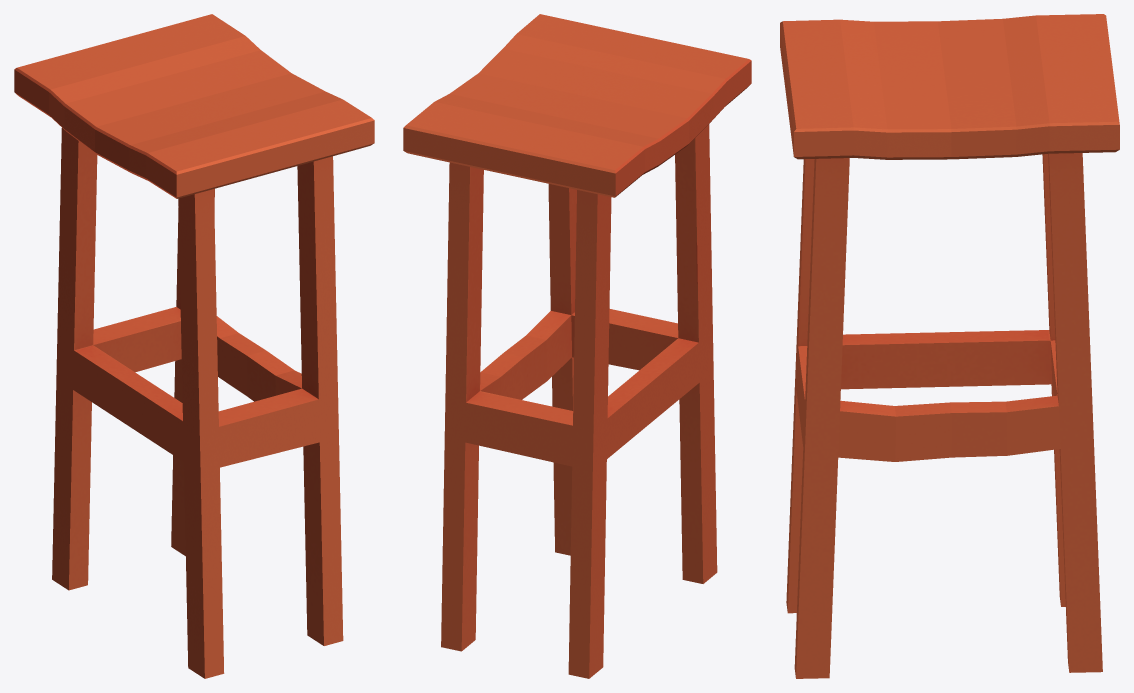
Rendered from Stool.fbx.
3 views of the same model, side by side, from view 1: azimuth 30°, elevation 25°; view 2: azimuth 150°, elevation 25°; view 3: azimuth 270°, elevation 25° (orthographic). The views are drawn at different scales.
Visible parts, largest first — view 1: Stool.004; view 2: Stool.004; view 3: Stool.004.
Boxes of the visible parts, <box> form: Stool.004: <box>14,14,374,678</box>; Stool.004: <box>403,14,751,678</box>; Stool.004: <box>780,14,1119,678</box>.
Size of the model in its own units: 94.28 by 213 by 116.
